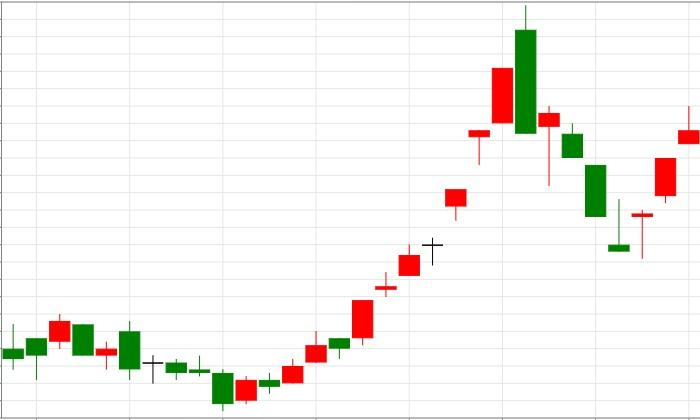bearish_engulfing_fall: (211, 5, 537, 411)
